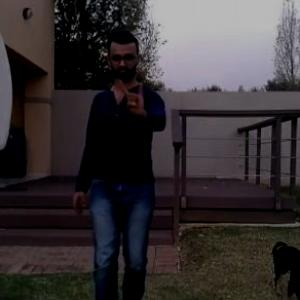takeoff-hand: (112, 75, 157, 121)
